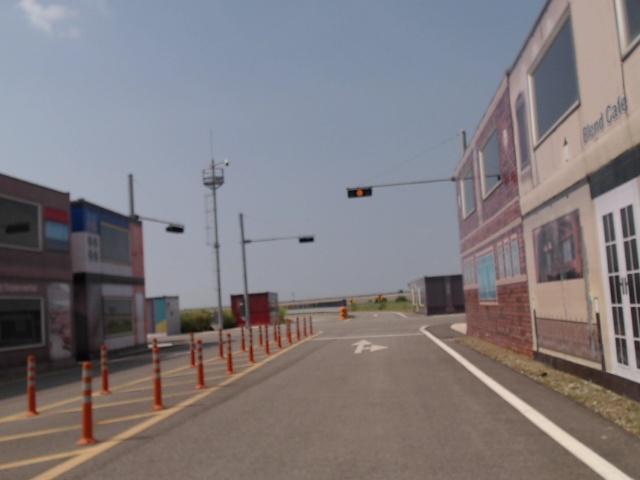orange_3: (348, 187, 373, 198)
